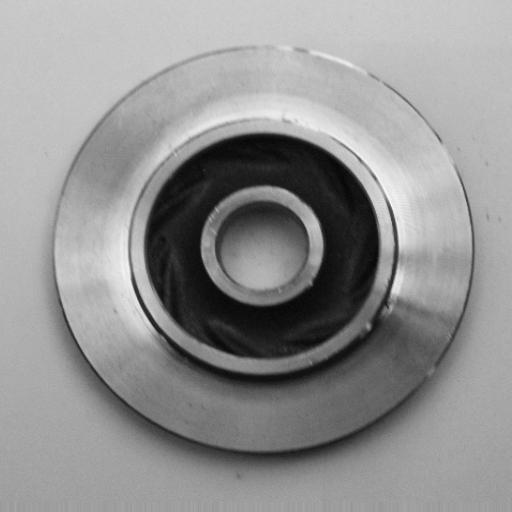scratch: (357, 290, 406, 346), (249, 106, 332, 139)
unpolished_casting: (49, 40, 479, 459)
